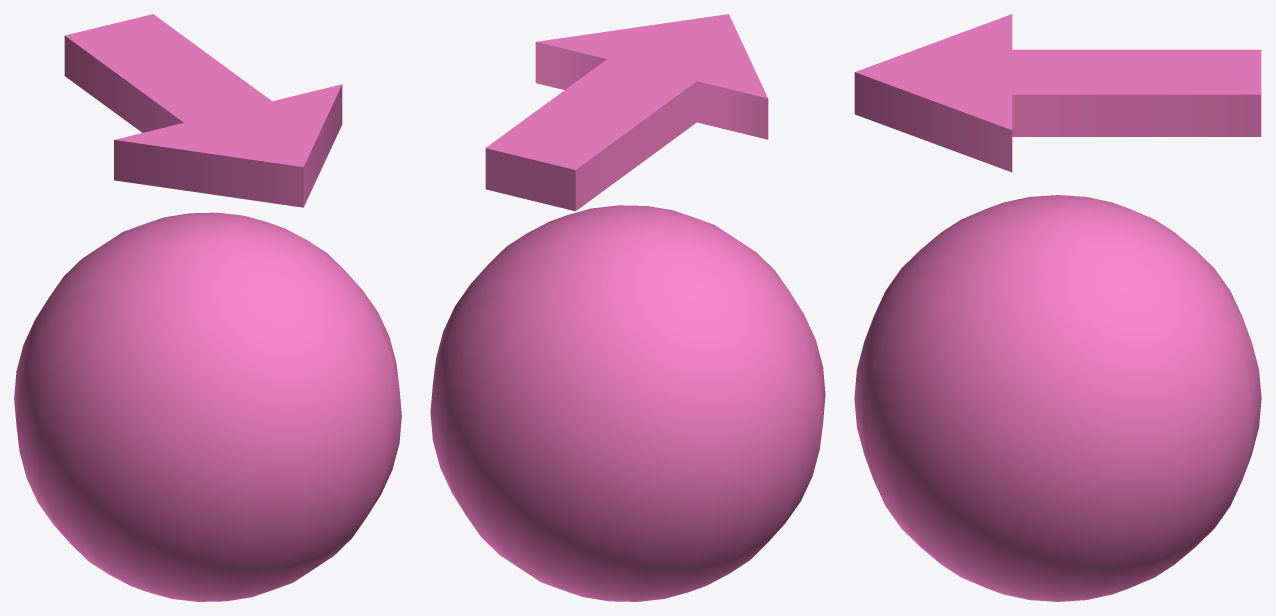
The model's file is SphereAndArrow.fbx.
3 renders of one model, left to right at view 1: azimuth 30°, elevation 25°; view 2: azimuth 150°, elevation 25°; view 3: azimuth 270°, elevation 25°, orthographic. The views are drawn at different scales.
Visible parts, largest first — view 1: pSphere1, pCube1; view 2: pSphere1, pCube1; view 3: pSphere1, pCube1.
Part boxes in pixels (x1,y1,x2,y2): pSphere1: [14, 212, 401, 601]; pCube1: [64, 14, 342, 207]; pSphere1: [430, 205, 825, 601]; pCube1: [485, 14, 768, 211]; pSphere1: [854, 195, 1261, 601]; pCube1: [854, 14, 1261, 172].
Size of the model in its own units: 0.6 by 0.8292 by 0.6.
Materials: 1 (1 with a texture image).
